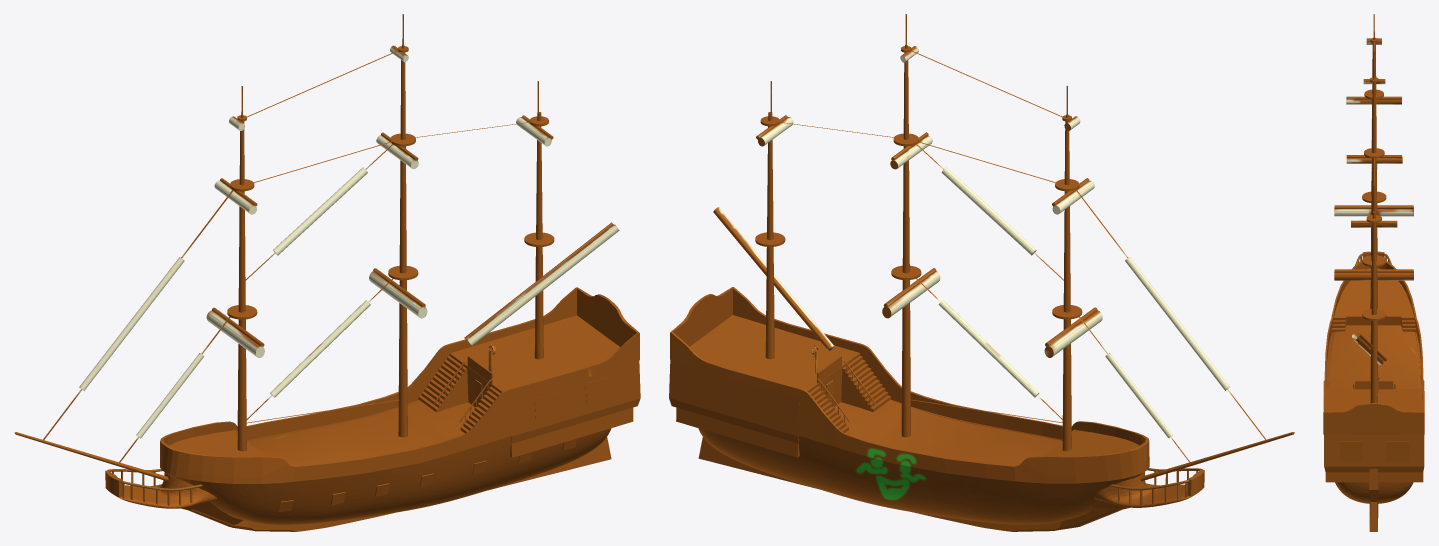
Rendered from ship2sognutobeta33333.fbx.
The picture shows the model from 3 angles, left to right: view 1: azimuth 30°, elevation 25°; view 2: azimuth 150°, elevation 25°; view 3: azimuth 270°, elevation 25°; orthographic projection. The views are drawn at different scales.
Parts seen in each view (by area): view 1: Cube; view 2: Cube; view 3: Cube.
Part boxes in pixels (<box>): Cube: <box>14,14,640,531</box>; Cube: <box>669,14,1294,531</box>; Cube: <box>1323,14,1424,531</box>.
Bounding box in the file's own units: 13123 × 10409 × 2392.
